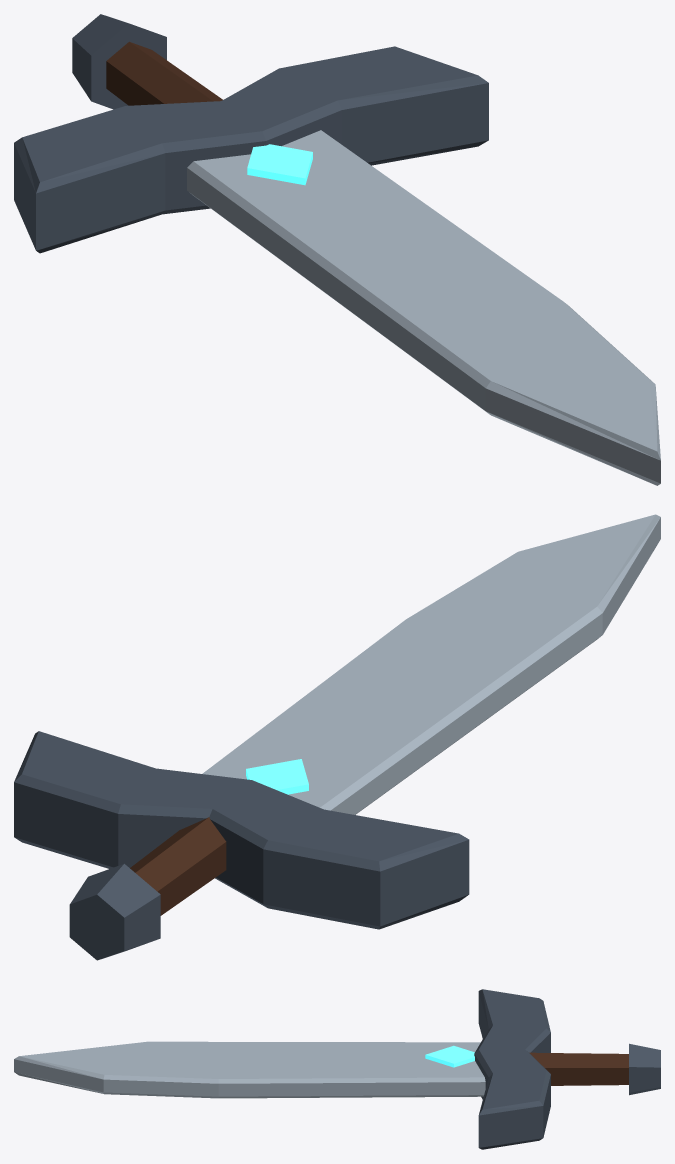
The model's file is Item_WardenBlade.glb.
3 renders of one model, top to bottom at view 1: azimuth 30°, elevation 25°; view 2: azimuth 150°, elevation 25°; view 3: azimuth 270°, elevation 25°, orthographic. The views are drawn at different scales.
Parts seen in each view (by area): view 1: Item_WardenBlade; view 2: Item_WardenBlade; view 3: Item_WardenBlade.
Part boxes in pixels (x1=…): Item_WardenBlade: x1=14, y1=14, x2=660, y2=485; Item_WardenBlade: x1=14, y1=514, x2=660, y2=960; Item_WardenBlade: x1=14, y1=989, x2=660, y2=1149.
Size of the model in its own units: 0.4133 by 0.08 by 0.9075.
